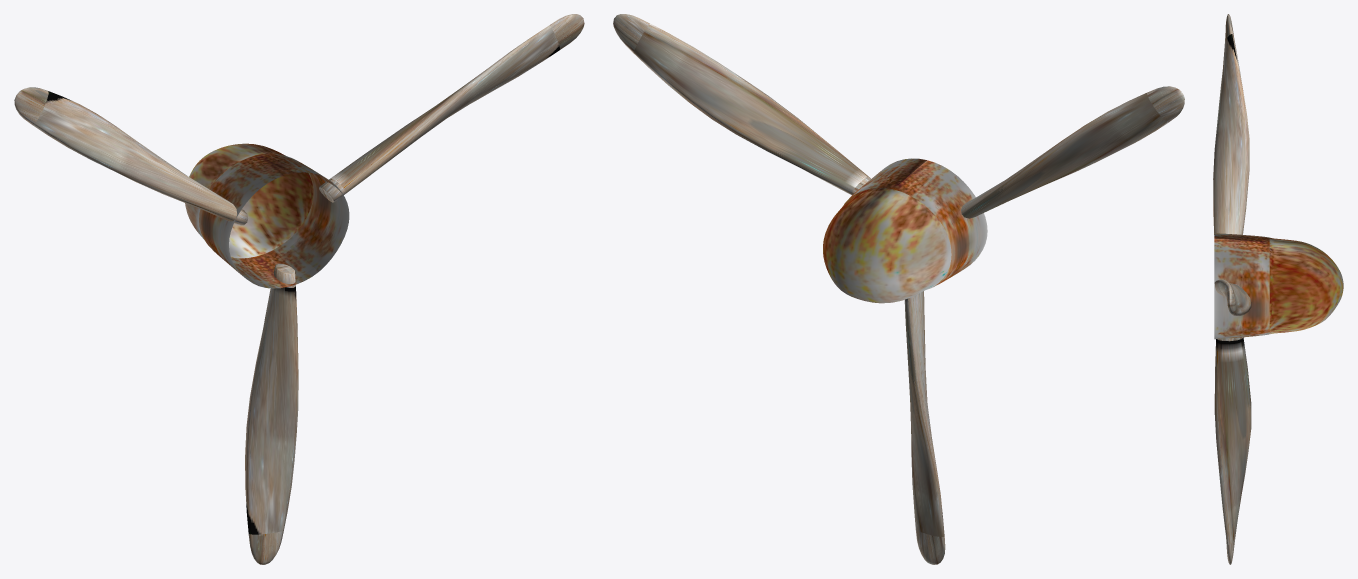
Rendered from helices.obj.
3 renders of one model, left to right at view 1: azimuth 30°, elevation 25°; view 2: azimuth 150°, elevation 25°; view 3: azimuth 270°, elevation 25°, orthographic. The views are drawn at different scales.
Visible parts, largest first — view 1: helices, Basehelices; view 2: helices, Basehelices; view 3: helices, Basehelices.
Boxes of the visible parts, x1=… form: helices: x1=14, y1=14, x2=584, y2=564; Basehelices: x1=185, y1=143, x2=349, y2=288; helices: x1=613, y1=14, x2=1184, y2=564; Basehelices: x1=823, y1=158, x2=987, y2=303; helices: x1=1213, y1=14, x2=1251, y2=564; Basehelices: x1=1214, y1=233, x2=1343, y2=339.
Size of the model in its own units: 5.43 by 4.87 by 1.28.
2 materials, 2 textured.
